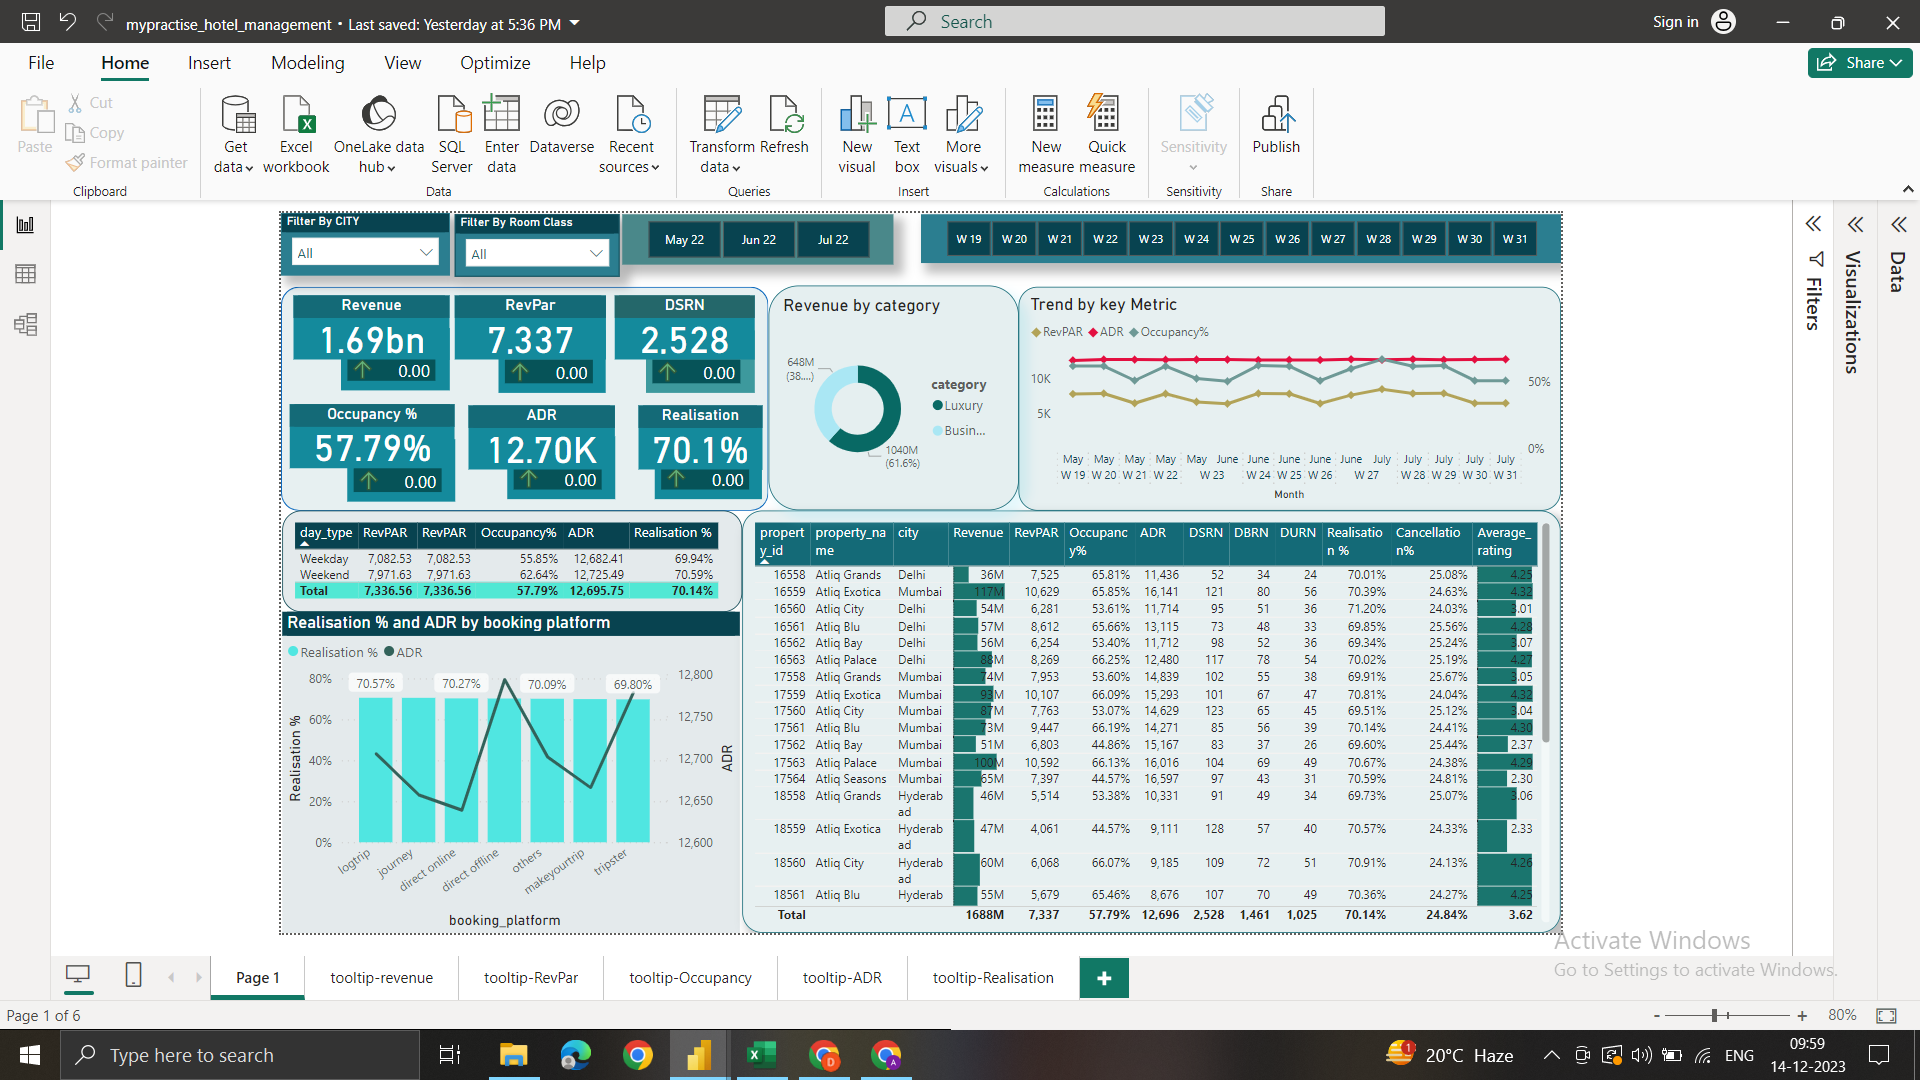

This screenshot's page, from the dashboard's own definition file:
{"tool":"powerbi","page":{"name":"Page 1","canvas":[1280,720],"ordinal":0},"visuals":[{"type":"shape","box":[0,74.2,487.5,224.2],"z":500},{"type":"tableEx","fields":{"Values":["key meassues.Revpa WoWchange %"]},"box":[374.2,224.2,107.5,62.5],"z":1000},{"type":"tableEx","fields":{"Values":["key meassues.Revpa WoWchange %"]},"box":[225.8,224.2,108.3,62.5],"z":2000},{"type":"tableEx","fields":{"Values":["key meassues.Revpa WoWchange %"]},"box":[65.8,225.8,108.3,62.5],"z":3000},{"type":"tableEx","fields":{"Values":["key meassues.Revpa WoWchange %"]},"box":[365,117.5,108.8,62.5],"z":4000},{"type":"tableEx","fields":{"Values":["key meassues.Revpa WoWchange %"]},"box":[217.5,117.5,107.5,62.5],"z":5000},{"type":"tableEx","fields":{"Values":["dim_hotels.property_id","dim_hotels.property_name","dim_hotels.city","key meassues.Revenue","key meassues.RevPAR","key meassues.Occupancy%","key meassues.ADR","key meassues.DSRN","key meassues.DBRN","key meassues.DURN","key meassues.Realisation %","key meassues.Cancellation%"]},"box":[461.2,297.5,818.8,422.5],"z":6000},{"type":"slicer","title":"Filter By CITY","fields":{"Values":["dim_hotels.city"]},"box":[0,0,168.8,62.5],"z":7000},{"type":"slicer","title":"Filter By Room Class","fields":{"Values":["dim_room.room_class"]},"box":[173.8,1.2,165,62.5],"z":8000},{"type":"slicer","title":"Filter By Room Type","fields":{"Values":["dim_date.mmm yy"]},"box":[341.2,1.2,271.2,50],"z":9000},{"type":"slicer","fields":{"Values":["dim_date.week no"]},"box":[640,1.2,640,48.8],"z":10000},{"type":"tableEx","fields":{"Values":["key meassues.Revenue WOW change %"]},"box":[60,115,108.8,62.5],"z":11000},{"type":"card","title":"Revenue","fields":{"Values":["key meassues.Revenue"]},"box":[12.5,82.5,156.2,63.8],"z":12000},{"type":"donutChart","fields":{"Category":["dim_hotels.category"],"Y":["key meassues.Revenue"]},"box":[487.5,72.5,250,225],"z":13000},{"type":"card","title":"RevPar","fields":{"Values":["key meassues.RevPAR"]},"box":[173.8,82.5,151.2,63.8],"z":14000},{"type":"card","title":"DSRN","fields":{"Values":["key meassues.DSRN"]},"box":[334.2,82.5,140,63.8],"z":15000},{"type":"card","title":"Occupancy %","fields":{"Values":["key meassues.Occupancy%"]},"box":[8.8,191.2,165,63.8],"z":16000},{"type":"card","title":"ADR","fields":{"Values":["key meassues.ADR"]},"box":[187.5,192.5,146.2,63.8],"z":17000},{"type":"card","title":"Realisation","fields":{"Values":["key meassues.Realisation %"]},"box":[357.5,192.5,123.8,63.8],"z":18000},{"type":"lineChart","title":"Trend by key Metric","fields":{"Category":["dim_date.week no","dim_date.mmm yy.Variation.Date Hierarchy.Month"],"Y":["key meassues.RevPAR","key meassues.ADR"],"Y2":["key meassues.Occupancy%"]},"box":[737.5,73.8,542.5,223.8],"z":19000},{"type":"tableEx","fields":{"Values":["dim_date.day_type","key meassues.RevPAR","key meassues.RevPAR","key meassues.Occupancy%","key meassues.ADR","key meassues.Realisation %"]},"box":[1.2,297.5,460,101.2],"z":20000},{"type":"lineClusteredColumnComboChart","title":"Realisation % and ADR by booking platform","fields":{"Y":["key meassues.Realisation %"],"Category":["fact_bookings.booking_platform"],"Y2":["key meassues.ADR"]},"box":[1.2,398.8,457.5,321.2],"z":21000}]}

Visuals, with their boxes on the page's 1280x720 design canvas (x1, y1, x2, y2). These are canvas units, not pixel positions in the 1920x1080 screenshot, which may show the page scaled, cropped or inside an application window:
shape: x1=0 y1=74 x2=488 y2=298
tableEx - key meassues.Revpa WoWchange %: x1=374 y1=224 x2=482 y2=287
tableEx - key meassues.Revpa WoWchange %: x1=226 y1=224 x2=334 y2=287
tableEx - key meassues.Revpa WoWchange %: x1=66 y1=226 x2=174 y2=288
tableEx - key meassues.Revpa WoWchange %: x1=365 y1=118 x2=474 y2=180
tableEx - key meassues.Revpa WoWchange %: x1=218 y1=118 x2=325 y2=180
tableEx - dim_hotels.property_id x dim_hotels.property_name: x1=461 y1=298 x2=1280 y2=720
"Filter By CITY" slicer: x1=0 y1=0 x2=169 y2=62
"Filter By Room Class" slicer: x1=174 y1=1 x2=339 y2=64
"Filter By Room Type" slicer: x1=341 y1=1 x2=612 y2=51
slicer - dim_date.week no: x1=640 y1=1 x2=1280 y2=50
tableEx - key meassues.Revenue WOW change %: x1=60 y1=115 x2=169 y2=178
"Revenue" card: x1=12 y1=82 x2=169 y2=146
donutChart - dim_hotels.category x key meassues.Revenue: x1=488 y1=72 x2=738 y2=298
"RevPar" card: x1=174 y1=82 x2=325 y2=146
"DSRN" card: x1=334 y1=82 x2=474 y2=146
"Occupancy %" card: x1=9 y1=191 x2=174 y2=255
"ADR" card: x1=188 y1=192 x2=334 y2=256
"Realisation" card: x1=358 y1=192 x2=481 y2=256
"Trend by key Metric" lineChart: x1=738 y1=74 x2=1280 y2=298
tableEx - dim_date.day_type x key meassues.RevPAR: x1=1 y1=298 x2=461 y2=399
"Realisation % and ADR by booking platform" lineClusteredColumnComboChart: x1=1 y1=399 x2=459 y2=720
